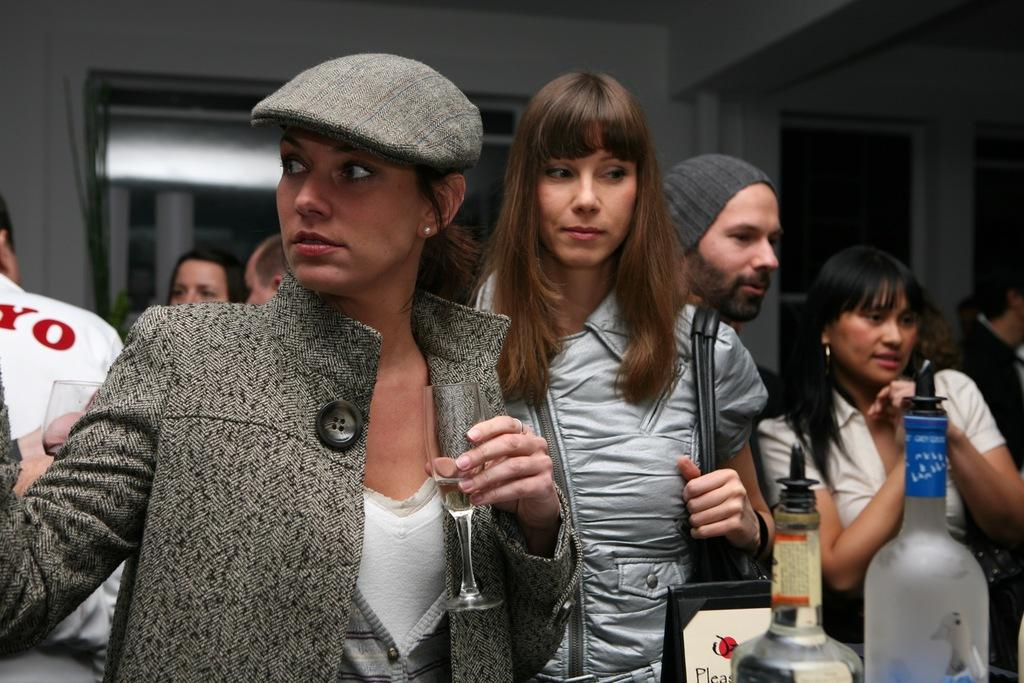Hat: (248, 53, 484, 170)
